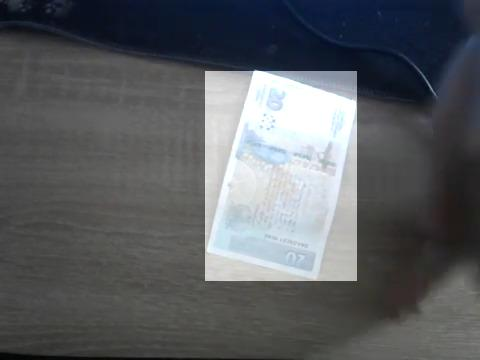20leva: (205, 71, 357, 281)
